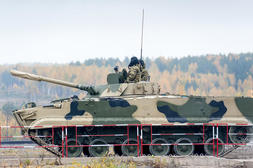bmp: (9, 67, 250, 159)
